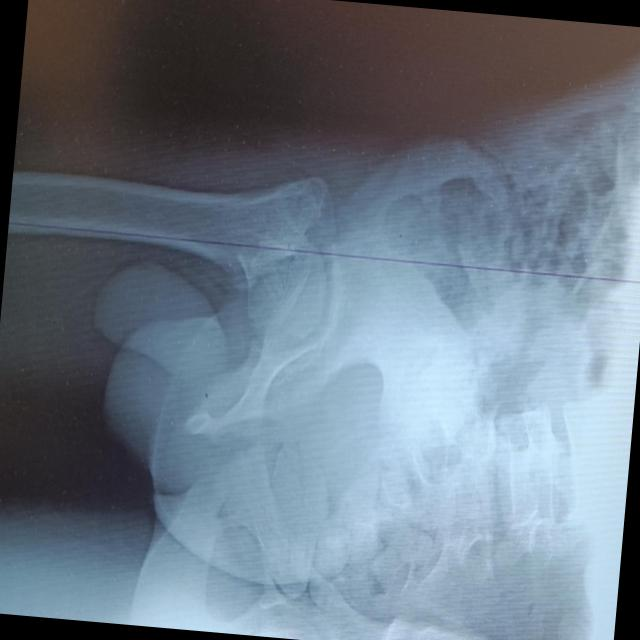right-neck: (139, 176, 325, 290), (238, 195, 323, 345)
